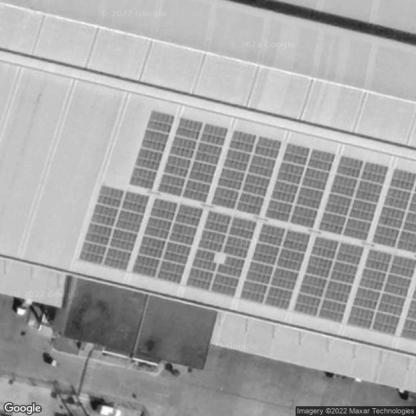solar-pv-panel: (78, 184, 150, 271), (212, 130, 284, 216), (317, 157, 391, 240), (240, 224, 312, 309), (133, 198, 204, 284), (294, 238, 365, 322), (188, 211, 258, 296), (265, 143, 335, 228), (348, 251, 416, 336), (160, 119, 229, 202), (129, 110, 176, 190), (373, 170, 416, 253), (401, 291, 416, 340)
